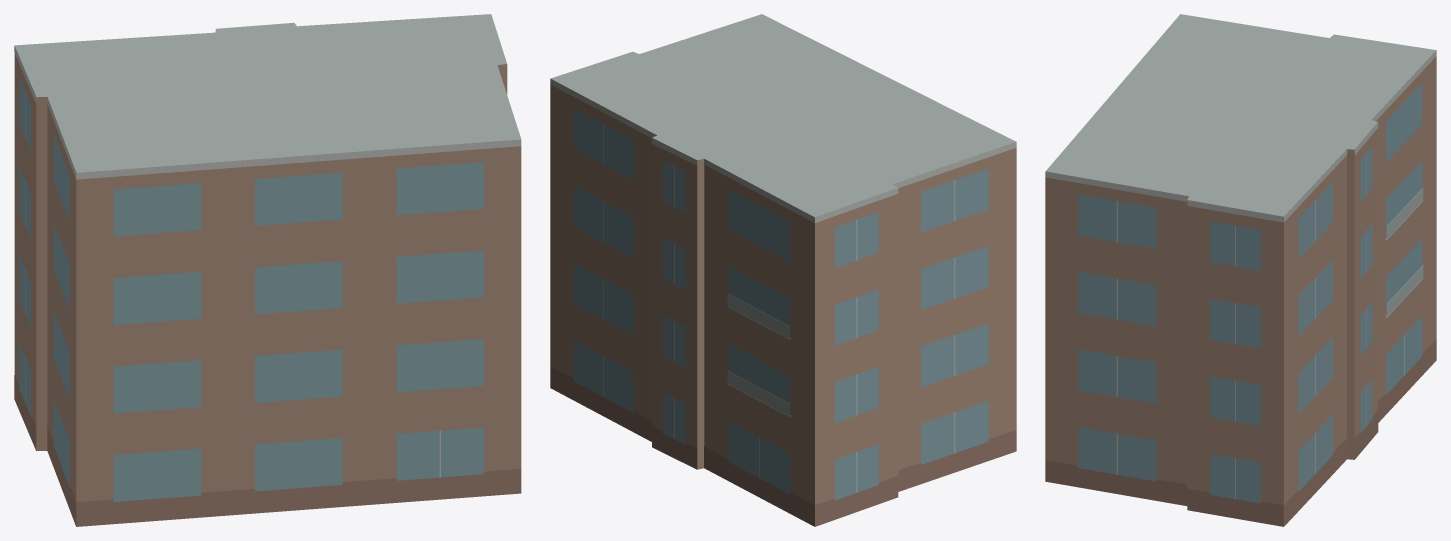
File: survey-upis-32586267.glb
The picture shows the model from 3 angles, left to right: view 1: azimuth 30°, elevation 25°; view 2: azimuth 150°, elevation 25°; view 3: azimuth 270°, elevation 25°; orthographic projection. The views are drawn at different scales.
Visible parts, largest first — view 1: survey-upis-32586267.tmp; view 2: survey-upis-32586267.tmp; view 3: survey-upis-32586267.tmp.
Boxes of the visible parts, x1=… form: survey-upis-32586267.tmp: x1=14, y1=14, x2=521, y2=526; survey-upis-32586267.tmp: x1=550, y1=14, x2=1016, y2=526; survey-upis-32586267.tmp: x1=1045, y1=14, x2=1436, y2=526.
Bounding box in the file's own units: 18.02 × 12.85 × 14.7.
